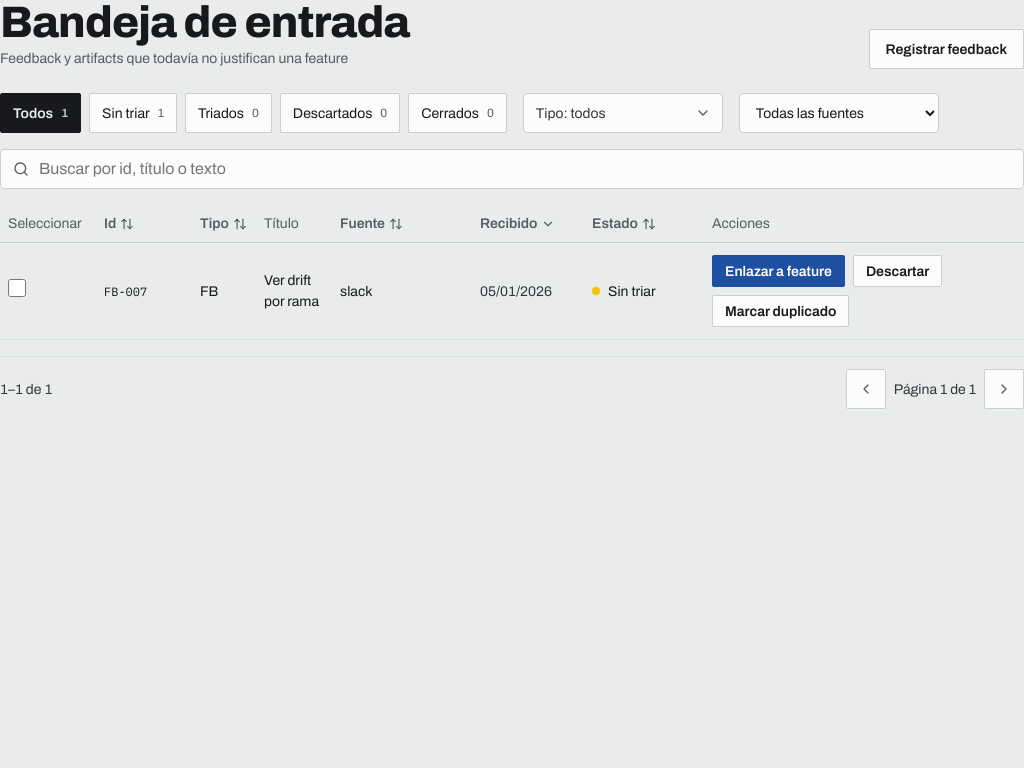
it: Entrada › triage › opens the detail drawer with the rendered body
What coordinates should you click on to do the following:
click the text "Ver drift por rama"
I would click on:
 (294, 291)
Its box is [256, 243, 332, 340].
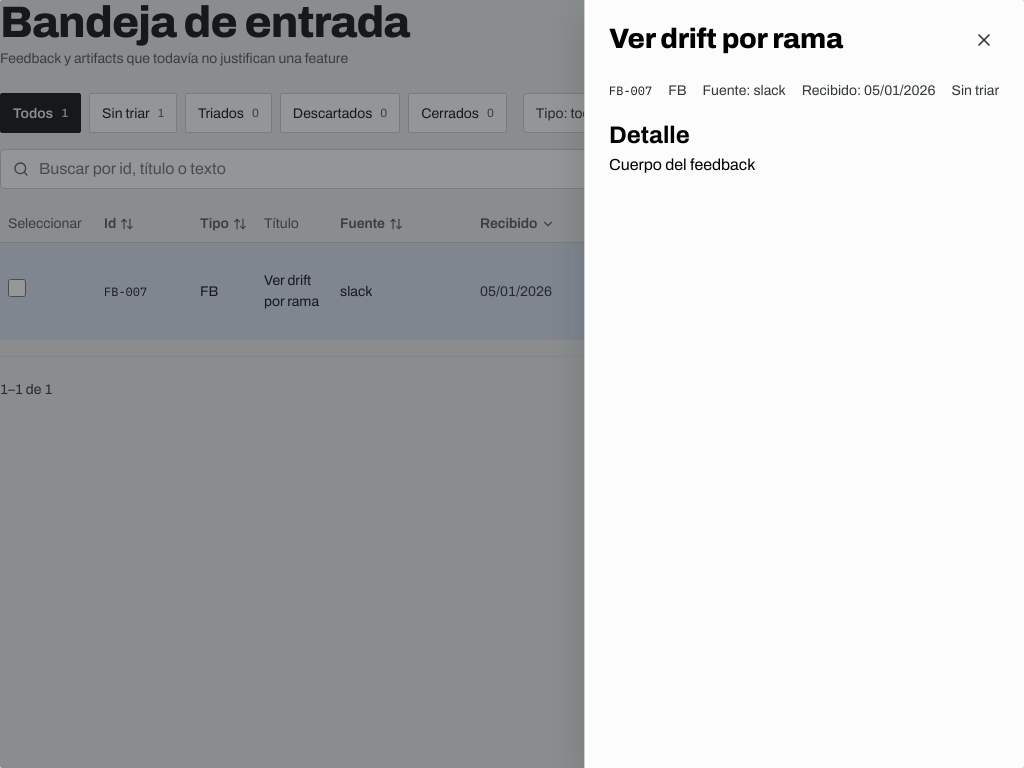
Result: the heading "Detalle" is shown at [609, 122, 690, 148]
Result: the text "Cuerpo del feedback" is shown at [609, 156, 755, 173]
